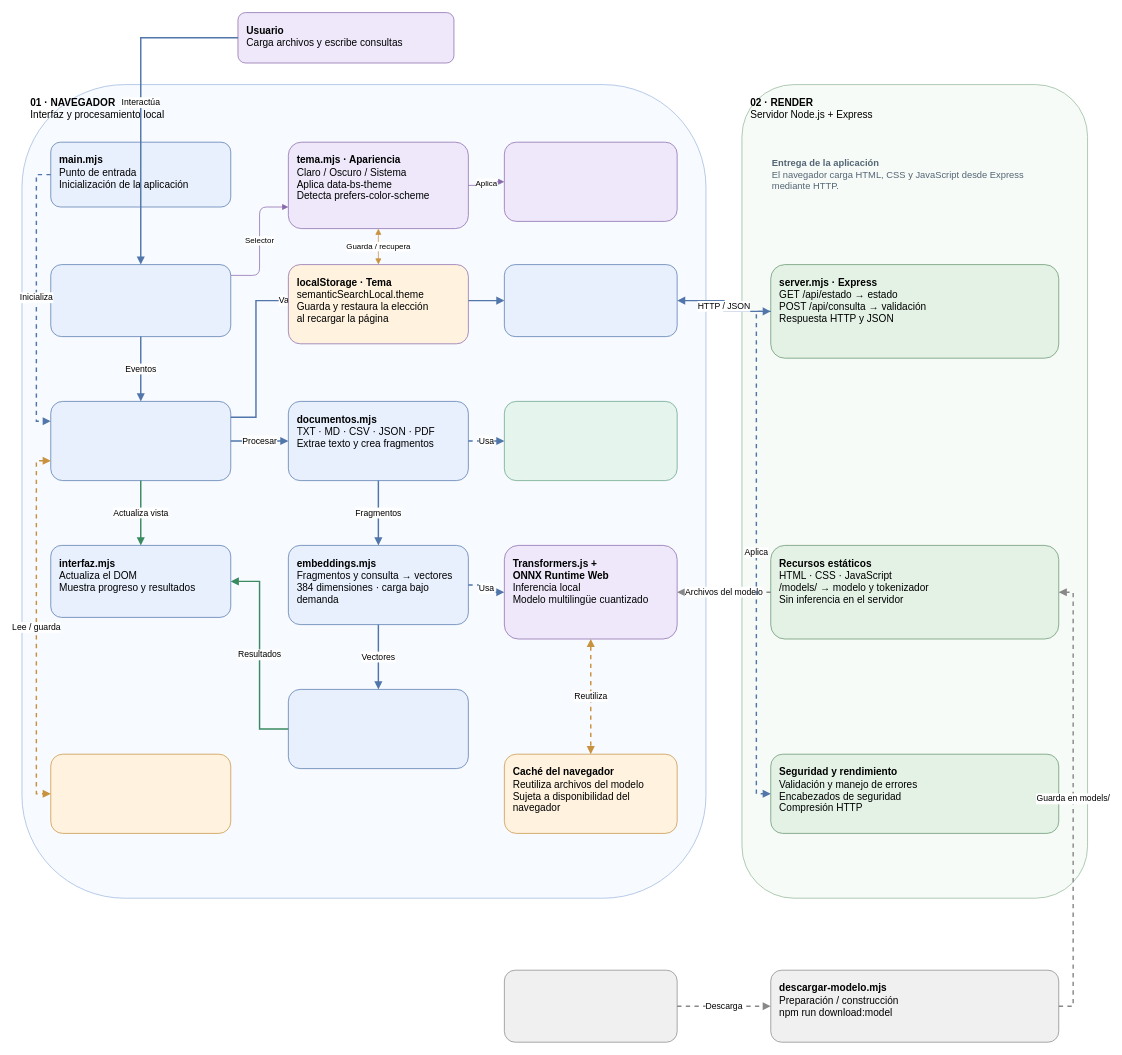
Some shapes in this 1122 by 1055 pixel diagram are drawn without their labels. Each missing label, with the centre of its shape:
"almacenamiento.mjs Preferencias → localStorage Última consulta → sessionStorage" goes at (140,793).
"api.mjs Cliente HTTP fetch · async/await · JSON" goes at (590,300).
"Bootstrap + styles.css Colores, fondos y contraste según el tema activo" goes at (590,181).
"buscador.mjs Similitud coseno y ranking Umbral y cantidad de resultados" goes at (378,729).
"eventos.mjs Coordina las acciones del usuario Procesamiento y búsqueda" goes at (140,441).
"Hugging Face Origen de los archivos del modelo" goes at (590,1005).
"Interfaz · index.html Archivos y consultas Selector Claro / Oscuro / Sistema" goes at (140,300).
"PDF.js Extracción de texto de PDF" goes at (590,441).
